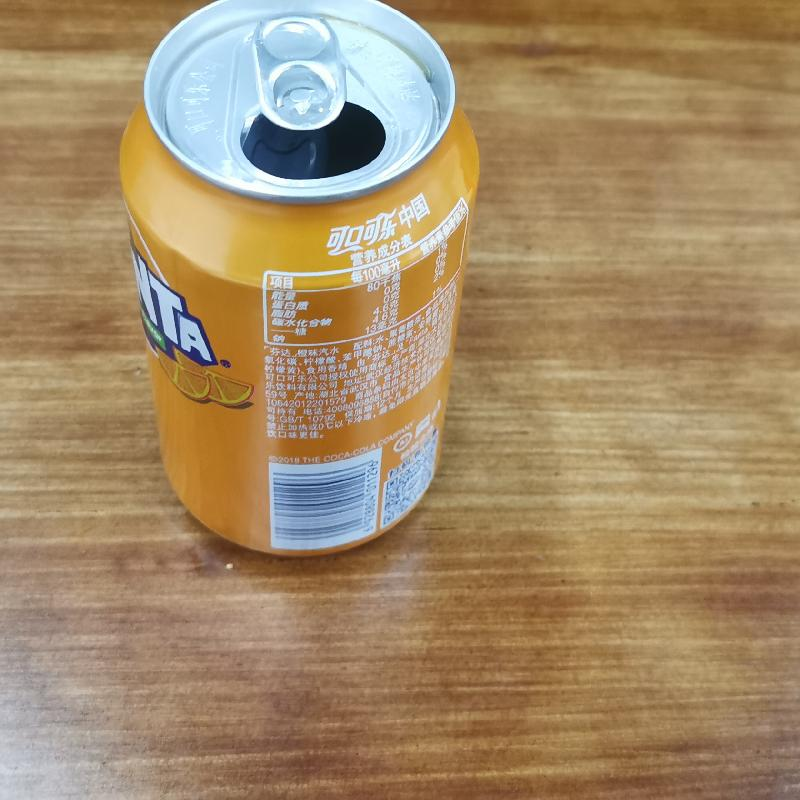cans: (105, 0, 478, 563)
